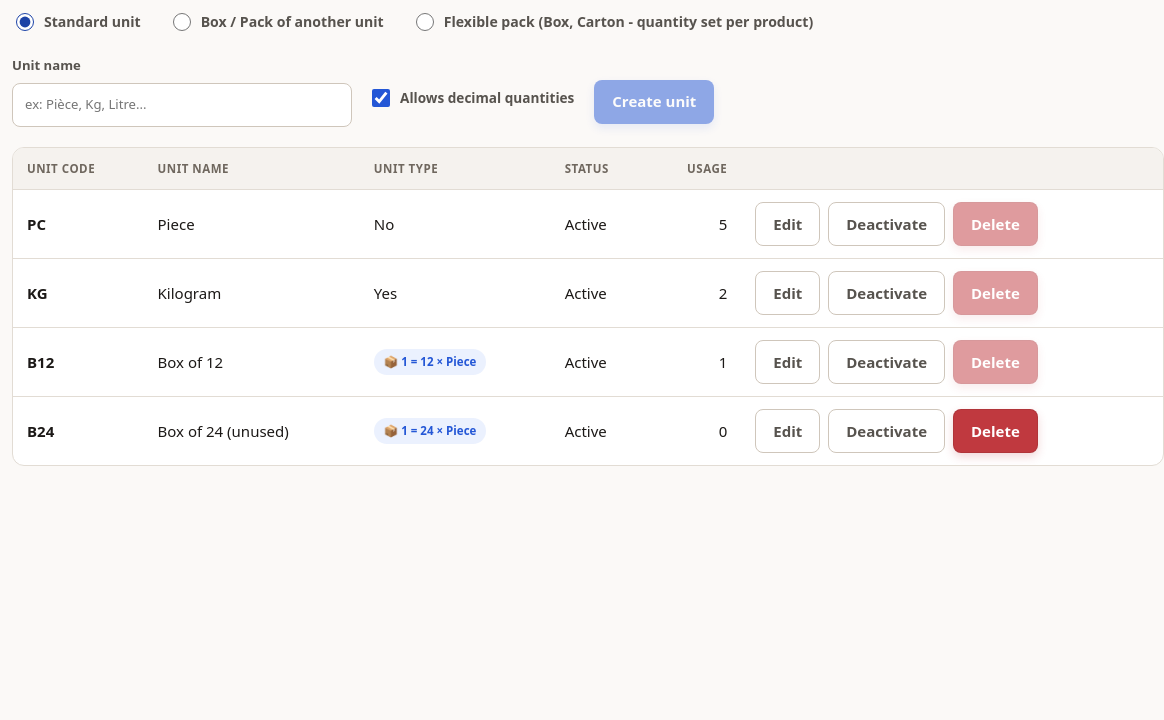
Test: UnitManager (Catalogue Setup Pack Units) › locks conversion factor when editing a pack unit that is already used
What coordinates should you click on to do the following:
click the button with test id "unit-edit-btn-3"
I would click on:
 (788, 362)
Its box is [755,340,820,384].
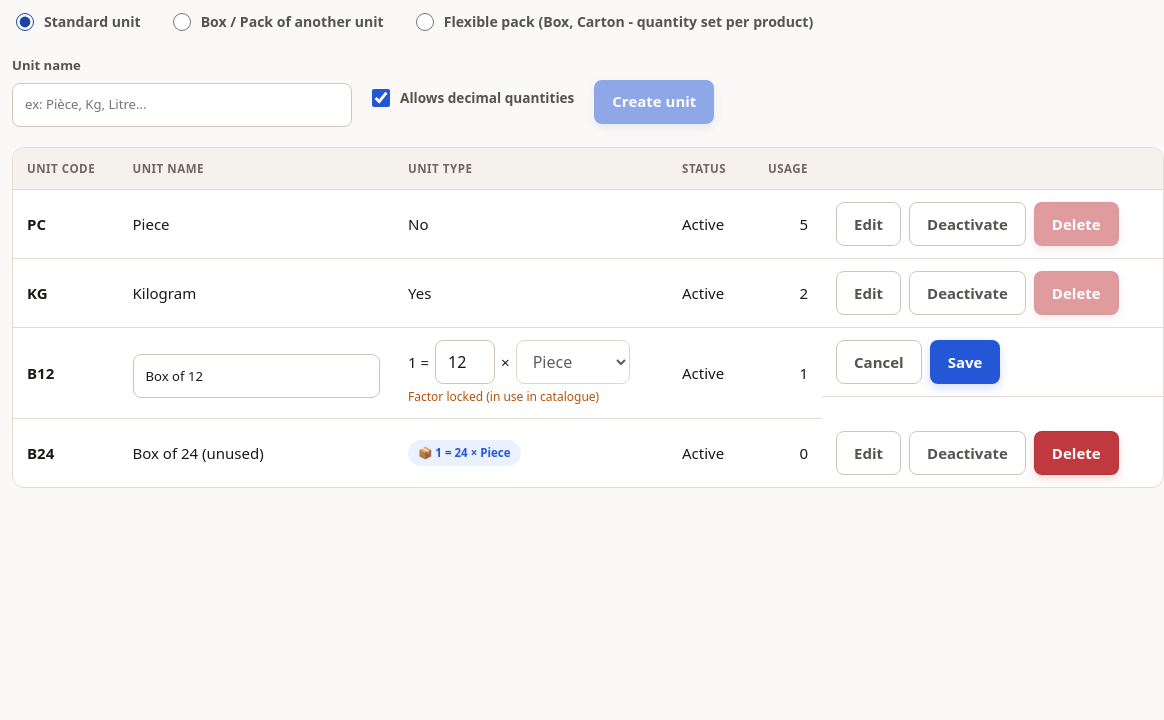
Result: the 1st field showing "12" is disabled at [435,340,495,384]
Result: the text "Factor locked (in use in catalogue)" is shown at [408,388,599,405]
